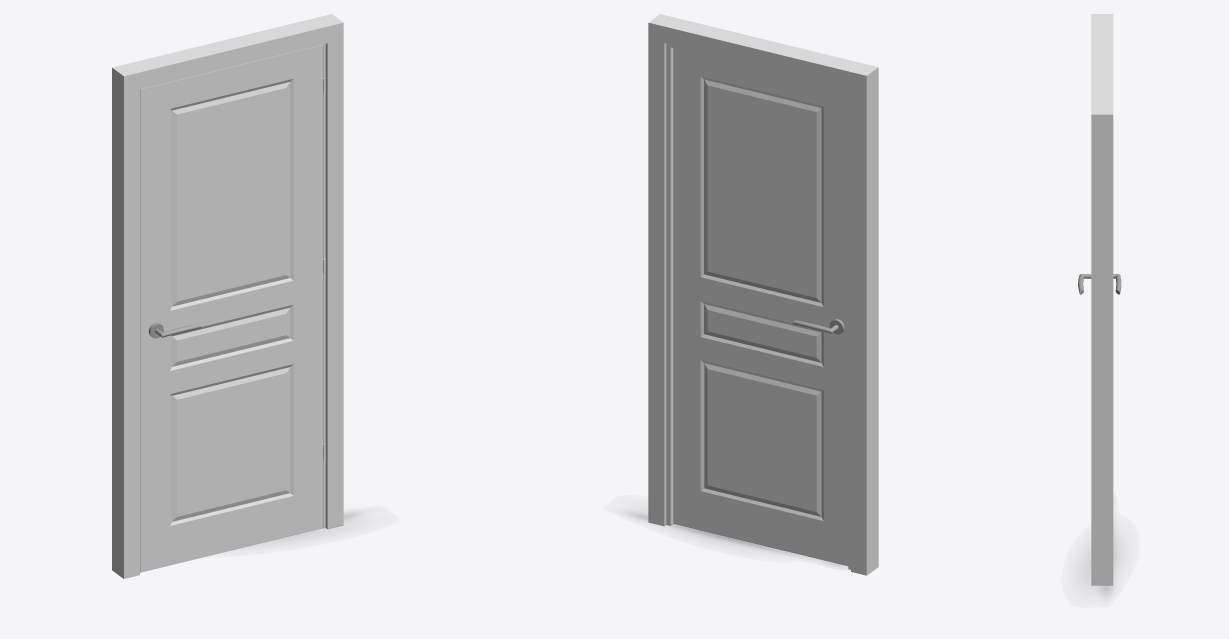
Rendered from jianwei_door.glb.
The picture shows the model from 3 angles, left to right: view 1: azimuth 30°, elevation 25°; view 2: azimuth 150°, elevation 25°; view 3: azimuth 270°, elevation 25°; orthographic projection. The views are drawn at different scales.
Parts seen in each view (by area): view 1: DoorPanel, DoorFrame; view 2: DoorPanel, DoorFrame, DoorBakedShadow; view 3: DoorFrame.
Part boxes in pixels (<box>): DoorPanel: <box>140,45,323,572</box>; DoorFrame: <box>112,14,343,578</box>; DoorPanel: <box>673,48,848,566</box>; DoorFrame: <box>648,14,878,575</box>; DoorBakedShadow: <box>633,514,837,564</box>; DoorFrame: <box>1091,14,1113,585</box>.
Bounding box in the file's own units: 1.62 × 2.22 × 0.92.
Materials: 5 (1 with a texture image).
